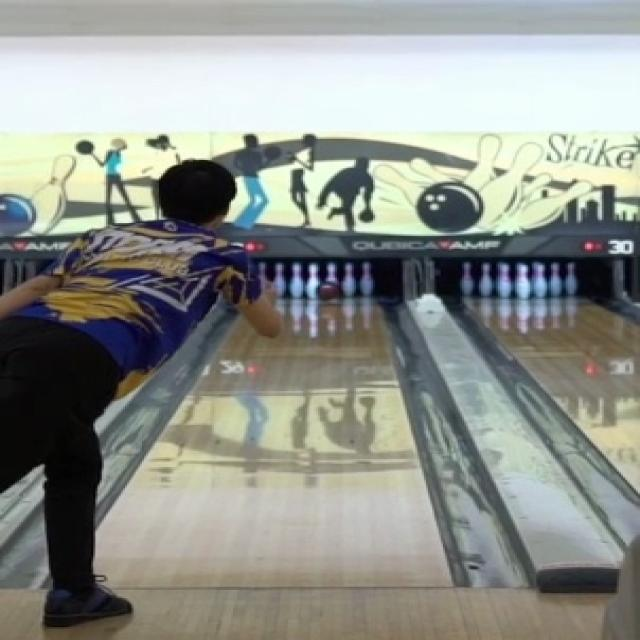alley: (100, 297, 445, 587)
balls: (318, 283, 339, 298)
bottle: (261, 260, 373, 297)
